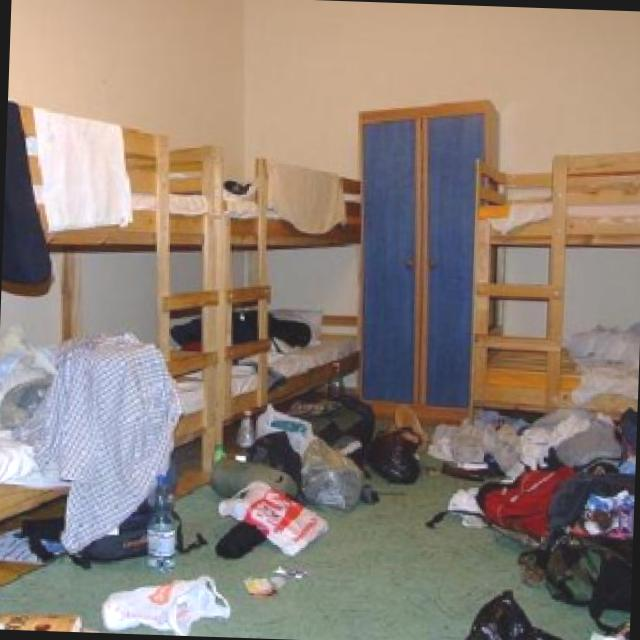mess: (0, 376, 634, 640), (0, 80, 375, 525), (469, 156, 640, 413)
